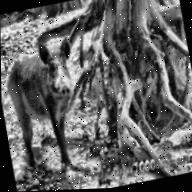boar: (0, 23, 95, 189)
